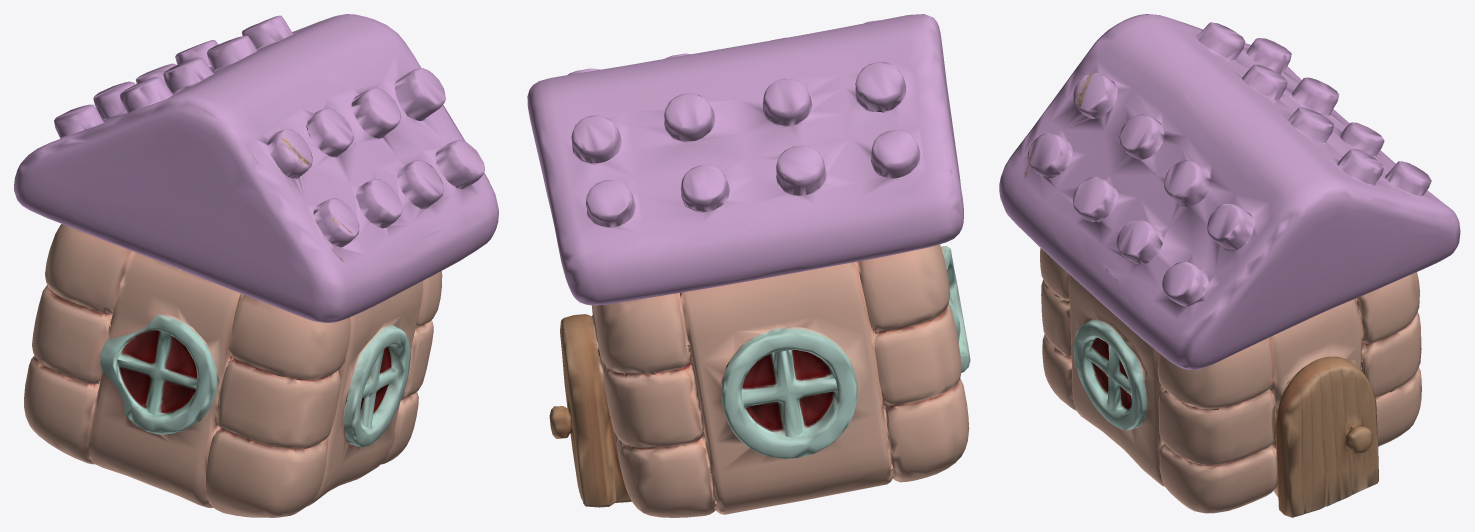
3 renders of one model, left to right at view 1: azimuth 30°, elevation 25°; view 2: azimuth 150°, elevation 25°; view 3: azimuth 270°, elevation 25°, orthographic. The views are drawn at different scales.
Visible parts, largest first — view 1: repaired; view 2: repaired; view 3: repaired.
Part boxes in pixels (x1,y1,x2,y2): repaired: [14, 14, 498, 517]; repaired: [527, 14, 970, 517]; repaired: [999, 14, 1460, 517].
Size of the model in its own units: 0.988 by 0.9477 by 0.9996.
1 material, 1 textured.
